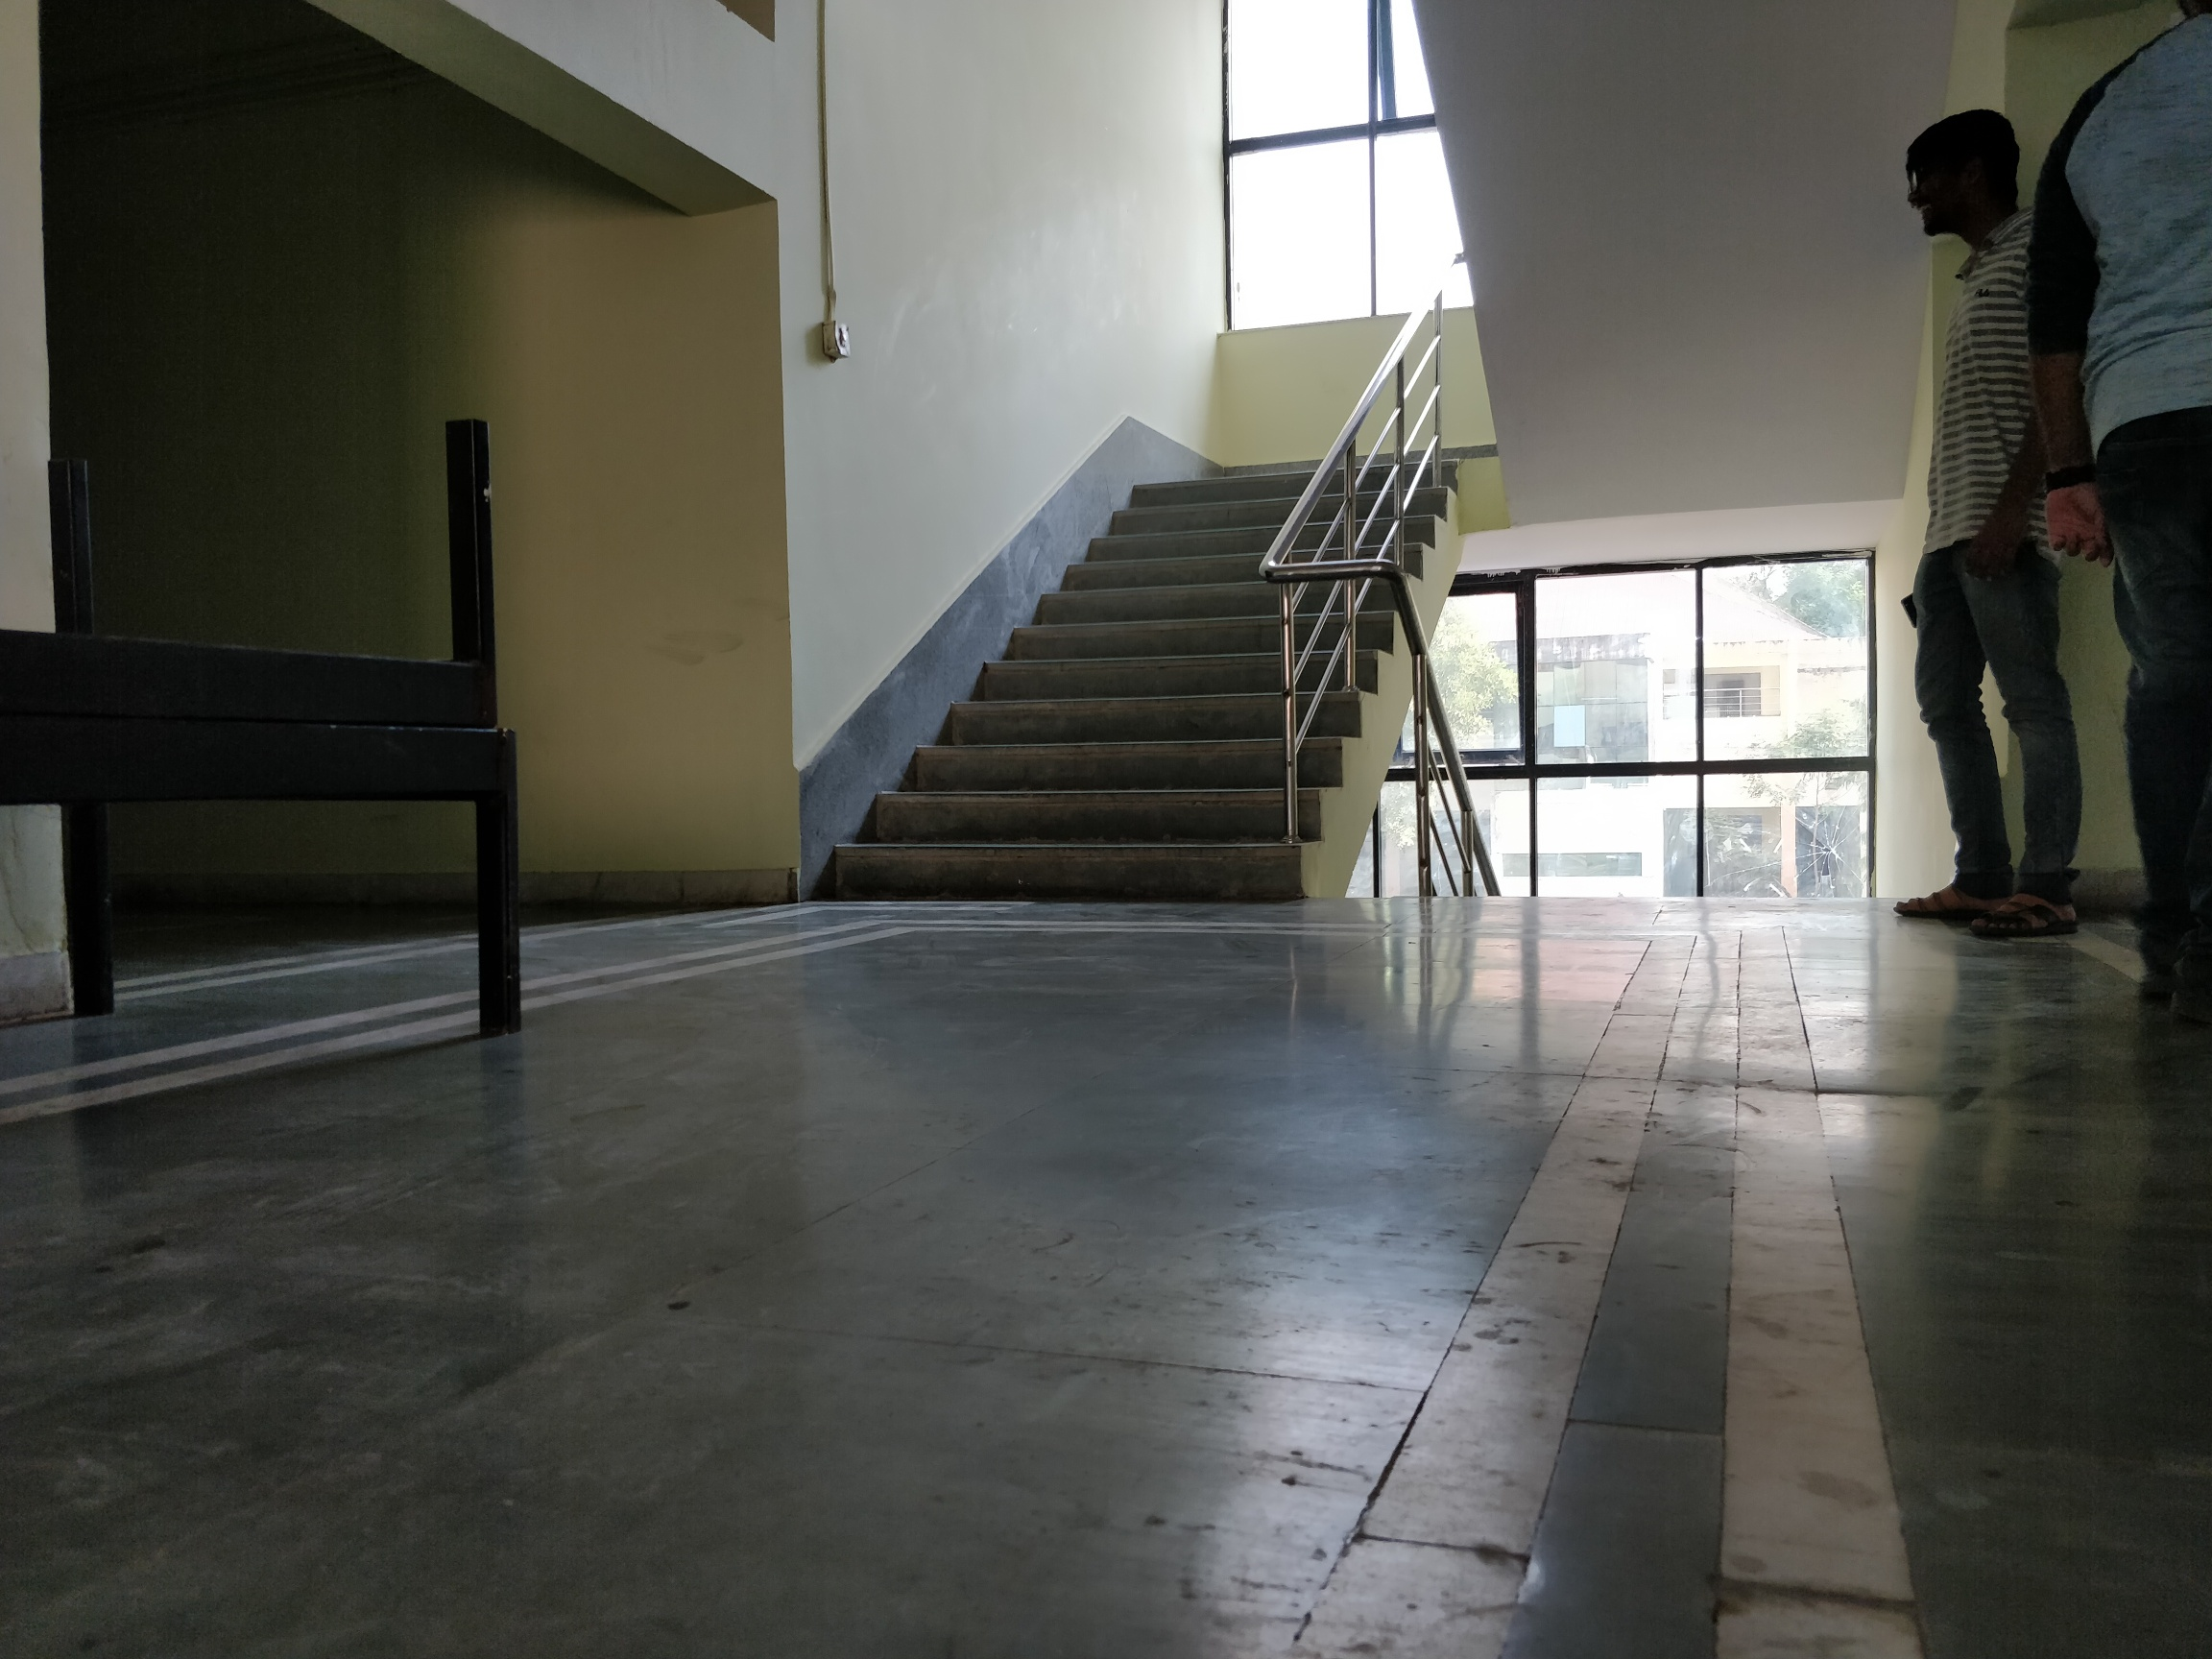stairs_up: (813, 437, 1465, 911)
